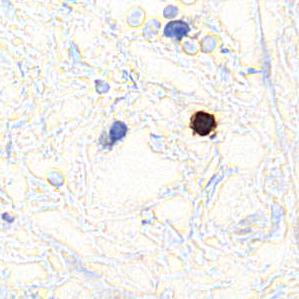Lymphocyte: (188, 110, 219, 139)
